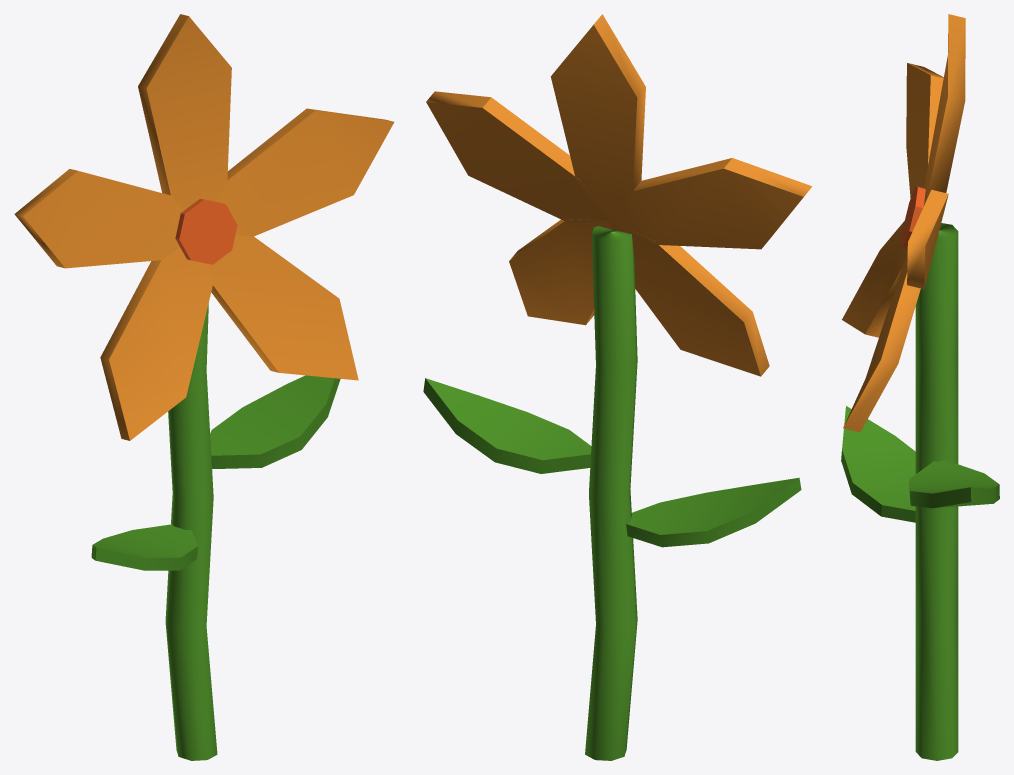
File: Flower_Orange_3.fbx
3 renders of one model, left to right at view 1: azimuth 30°, elevation 25°; view 2: azimuth 150°, elevation 25°; view 3: azimuth 270°, elevation 25°, orthographic.
Parts seen in each view (by area): view 1: Cube.097, Cylinder.624, Plane.197, Plane.196, Cylinder.625; view 2: Cube.097, Cylinder.624, Plane.197, Plane.196; view 3: Cylinder.624, Cube.097, Plane.196, Plane.197, Cylinder.625.
Part boxes in pixels (left/top/right/bottom): Cube.097: left=14, top=14, right=394, bottom=440; Cylinder.624: left=165, top=304, right=217, bottom=760; Plane.197: left=210, top=375, right=340, bottom=468; Plane.196: left=91, top=524, right=197, bottom=570; Cylinder.625: left=175, top=198, right=237, bottom=264; Cube.097: left=426, top=14, right=812, bottom=376; Cylinder.624: left=585, top=226, right=637, bottom=760; Plane.197: left=423, top=378, right=591, bottom=473; Plane.196: left=626, top=477, right=801, bottom=547; Cylinder.624: left=915, top=223, right=958, bottom=760; Cube.097: left=842, top=14, right=965, bottom=432; Plane.196: left=841, top=406, right=915, bottom=522; Plane.197: left=909, top=460, right=999, bottom=508; Cylinder.625: left=900, top=186, right=925, bottom=248.
Size of the model in its own units: 71.56 by 135 by 26.3.
